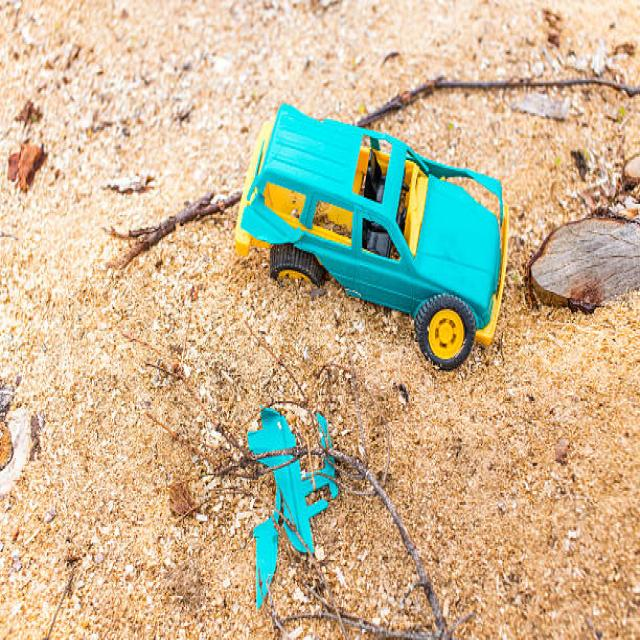Car: (233, 100, 509, 370)
